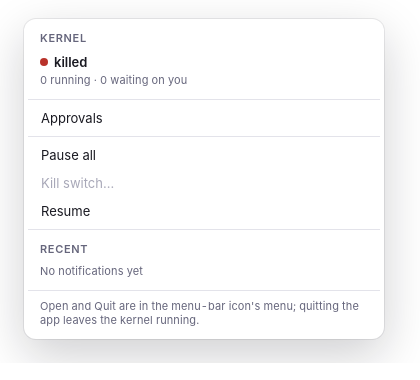
Test: the commands › AC3: Resume sends POST /resume
Click the button "Resume" at (66, 211), box [28,197,380,225]
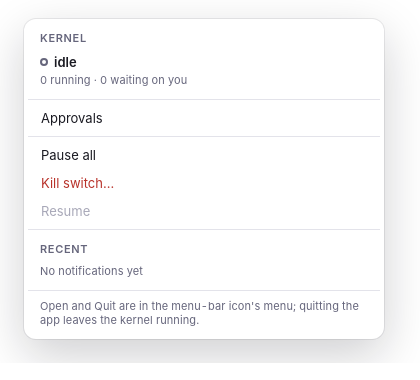
Expected: the text "idle" is shown, [54,53,77,71]
